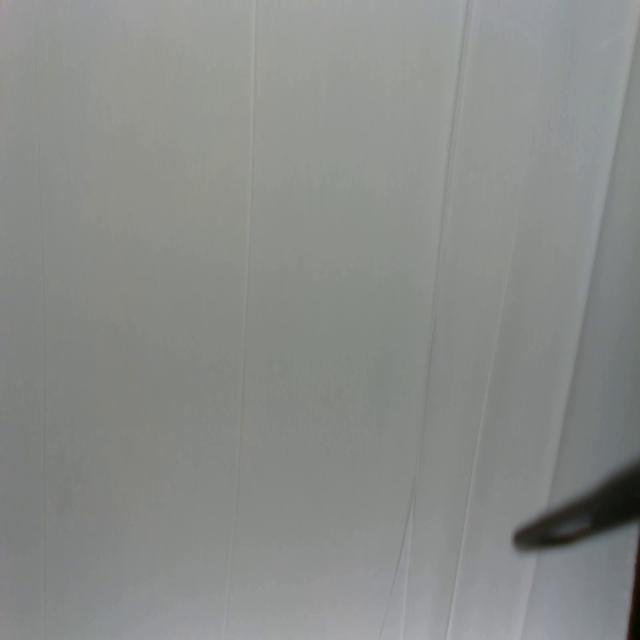crease: (378, 0, 514, 639), (220, 1, 260, 640), (29, 0, 50, 638)
